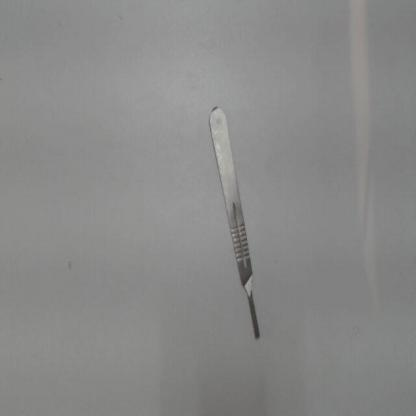No.4 BP Handle: (191, 86, 272, 353)
